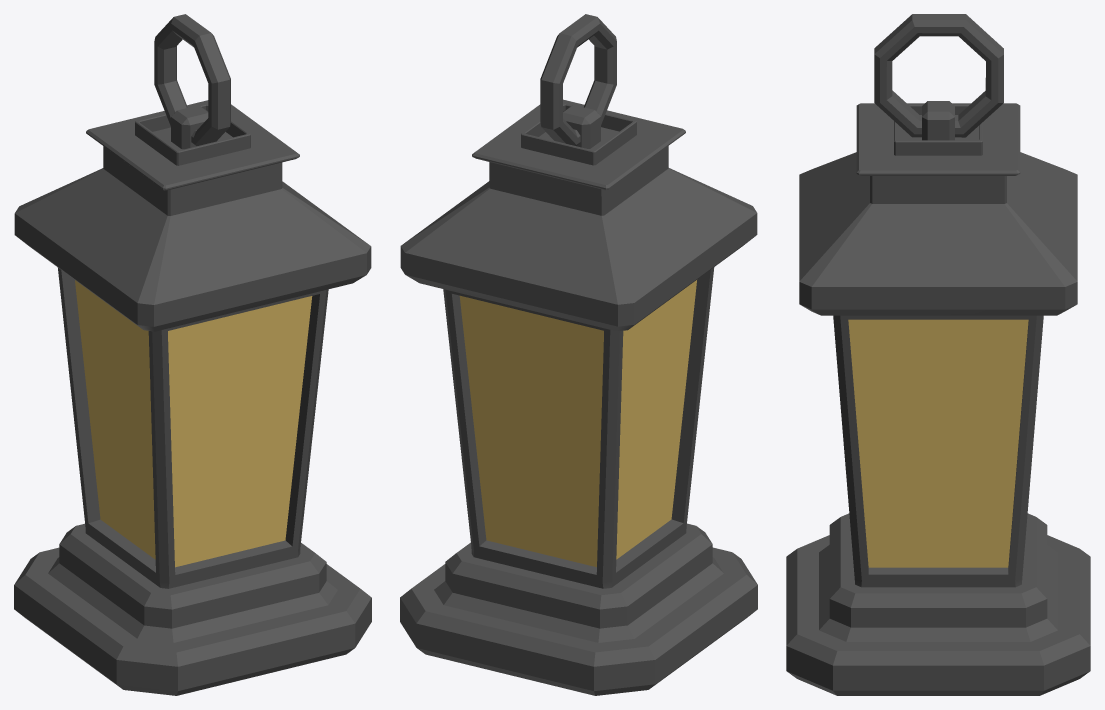
Rendered from Lamp_LP.fbx.
3 views of the same model, side by side, from view 1: azimuth 30°, elevation 25°; view 2: azimuth 150°, elevation 25°; view 3: azimuth 270°, elevation 25° (orthographic). The views are drawn at different scales.
Visible parts, largest first — view 1: Lamp_LP; view 2: Lamp_LP; view 3: Lamp_LP.
Part boxes in pixels (x1,y1,x2,y2): Lamp_LP: (14, 14, 371, 695); Lamp_LP: (400, 14, 757, 695); Lamp_LP: (786, 14, 1090, 695).
Bounding box in the file's own units: 58.34 × 131 × 58.34.
